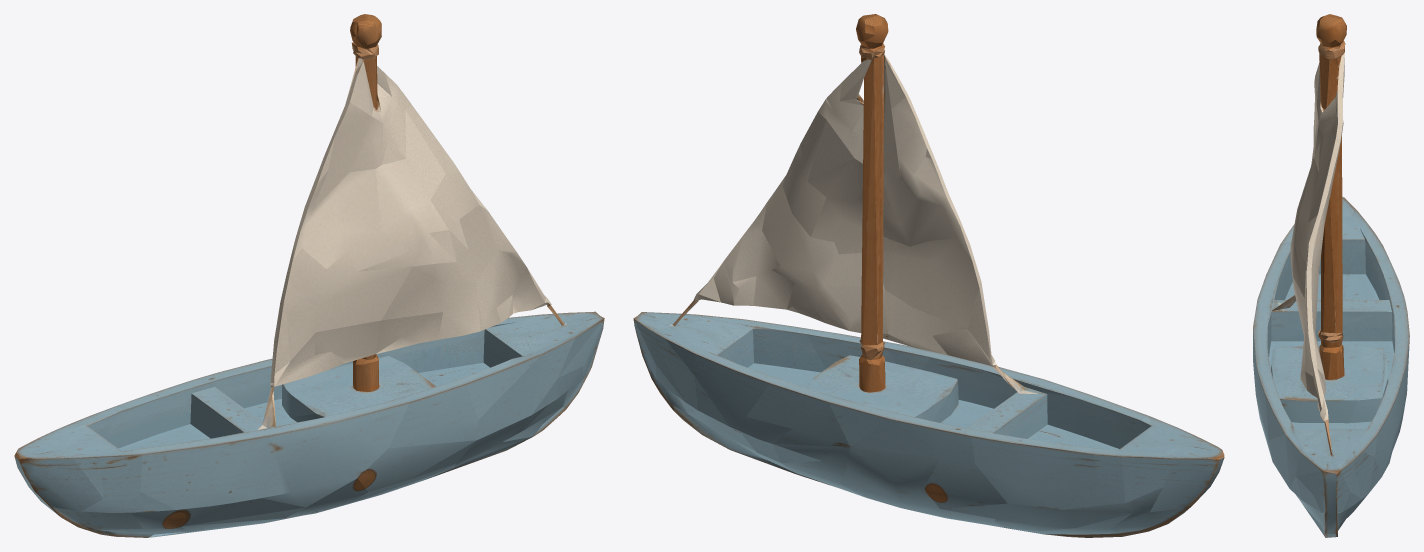
The model's file is Toy_sailboat.glb.
3 renders of one model, left to right at view 1: azimuth 30°, elevation 25°; view 2: azimuth 150°, elevation 25°; view 3: azimuth 270°, elevation 25°, orthographic. The views are drawn at different scales.
Size of the model in its own units: 1.9 by 1.49 by 0.4559.
1 material, 1 textured.
